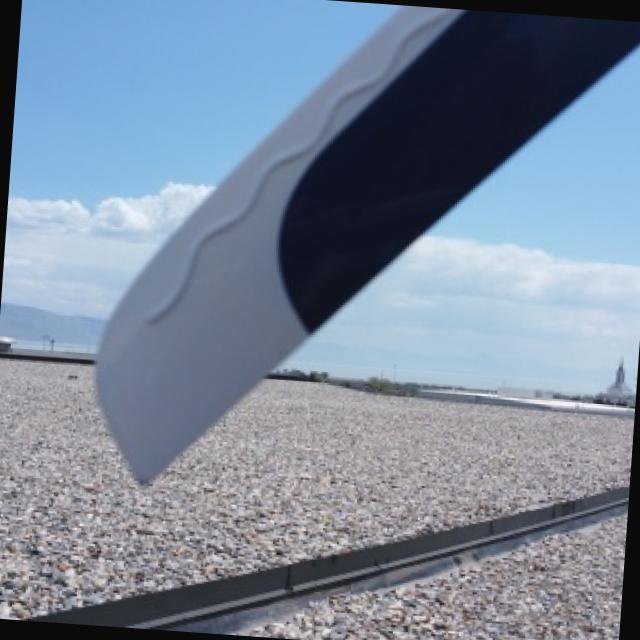healthy: (99, 5, 640, 479)
